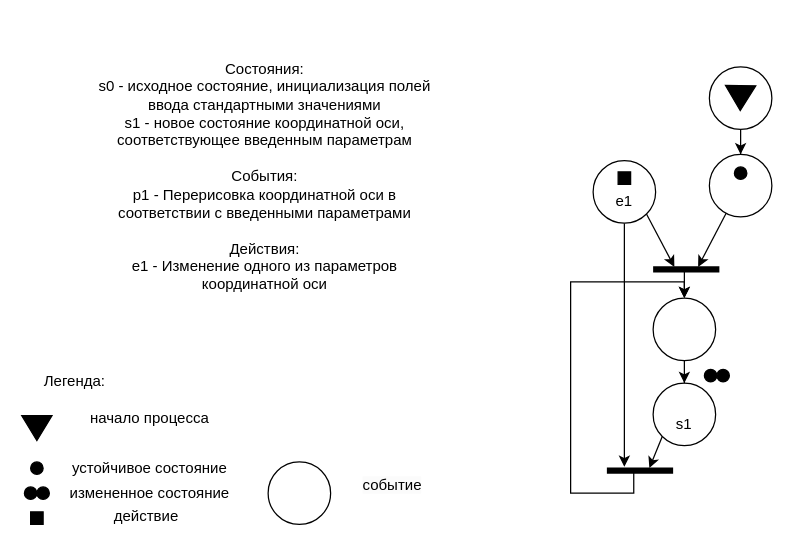
Image size: 795x559. Some labels were removed from this diagram. Each missing label, with the centre of its shape:
"p1" belongs at [684,329].
"s0" belongs at [740,185].
